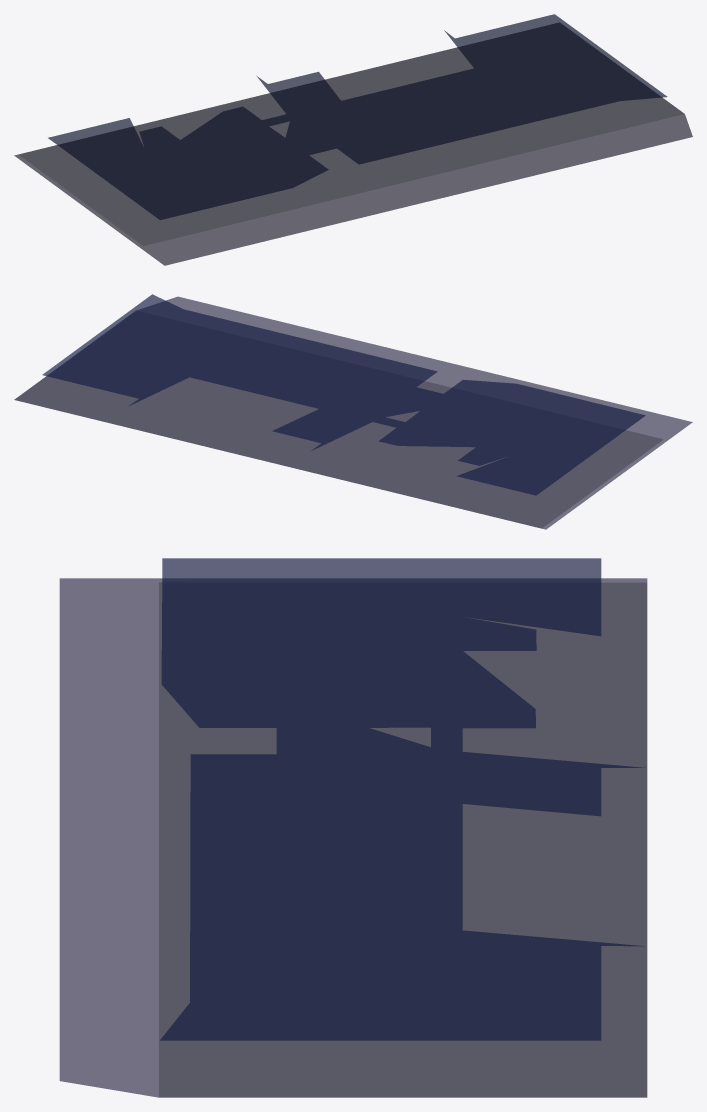
3 views of the same model, one above another, from view 1: azimuth 30°, elevation 25°; view 2: azimuth 150°, elevation 25°; view 3: azimuth 270°, elevation 25° (orthographic). The views are drawn at different scales.
Parts seen in each view (by area): view 1: Joint_0_Object_0; view 2: Joint_0_Object_0; view 3: Joint_0_Object_0.
Part boxes in pixels (x1,y1,x2,y2): Joint_0_Object_0: (14,14,692,265); Joint_0_Object_0: (14,294,692,529); Joint_0_Object_0: (59,558,647,1097).
Bounding box in the file's own units: 1521 × 55.82 × 728.
Materials: 1 (1 with a texture image).
